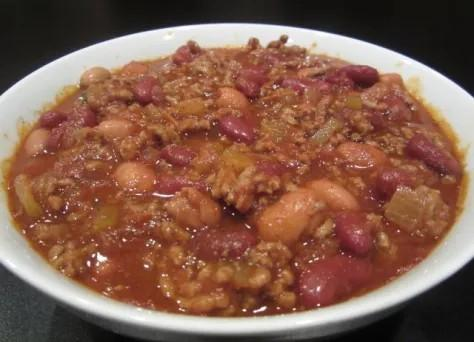RajmaCurry: (9, 39, 467, 314)
